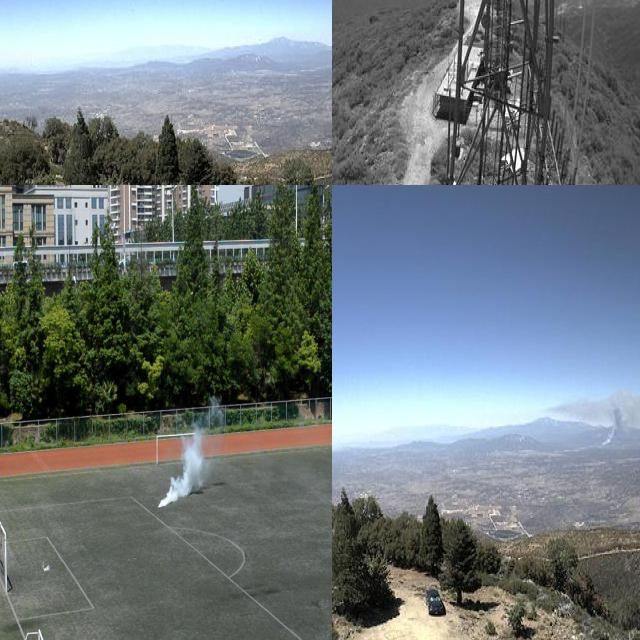smoke: (157, 401, 226, 507), (545, 392, 640, 448)
